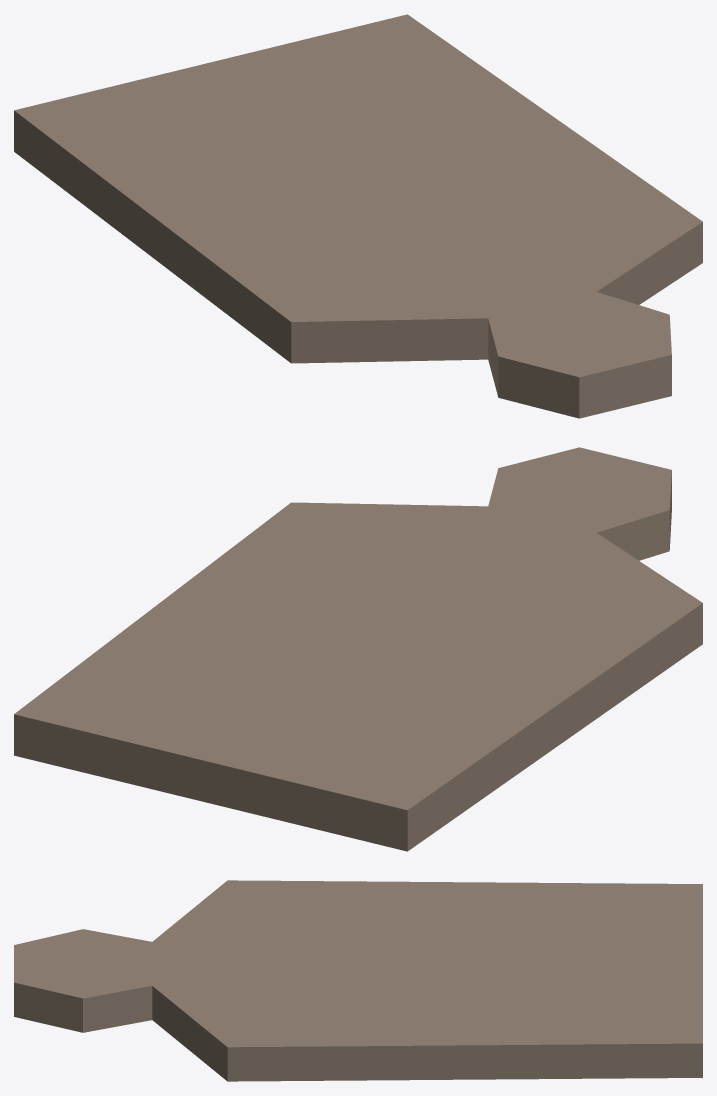
Rendered from EA03_Items_House_BredBoard_01a.glb.
3 views of the same model, one above another, from view 1: azimuth 30°, elevation 25°; view 2: azimuth 150°, elevation 25°; view 3: azimuth 270°, elevation 25° (orthographic). The views are drawn at different scales.
Parts seen in each view (by area): view 1: EA03_Items_House_BredBoard_01a; view 2: EA03_Items_House_BredBoard_01a; view 3: EA03_Items_House_BredBoard_01a.
Part boxes in pixels (left/top/right/bottom): EA03_Items_House_BredBoard_01a: left=14, top=14, right=702, bottom=418; EA03_Items_House_BredBoard_01a: left=14, top=447, right=702, bottom=851; EA03_Items_House_BredBoard_01a: left=14, top=880, right=702, bottom=1081.
Size of the model in its own units: 0.318 by 0.0305 by 0.555.
1 material, 1 textured.
